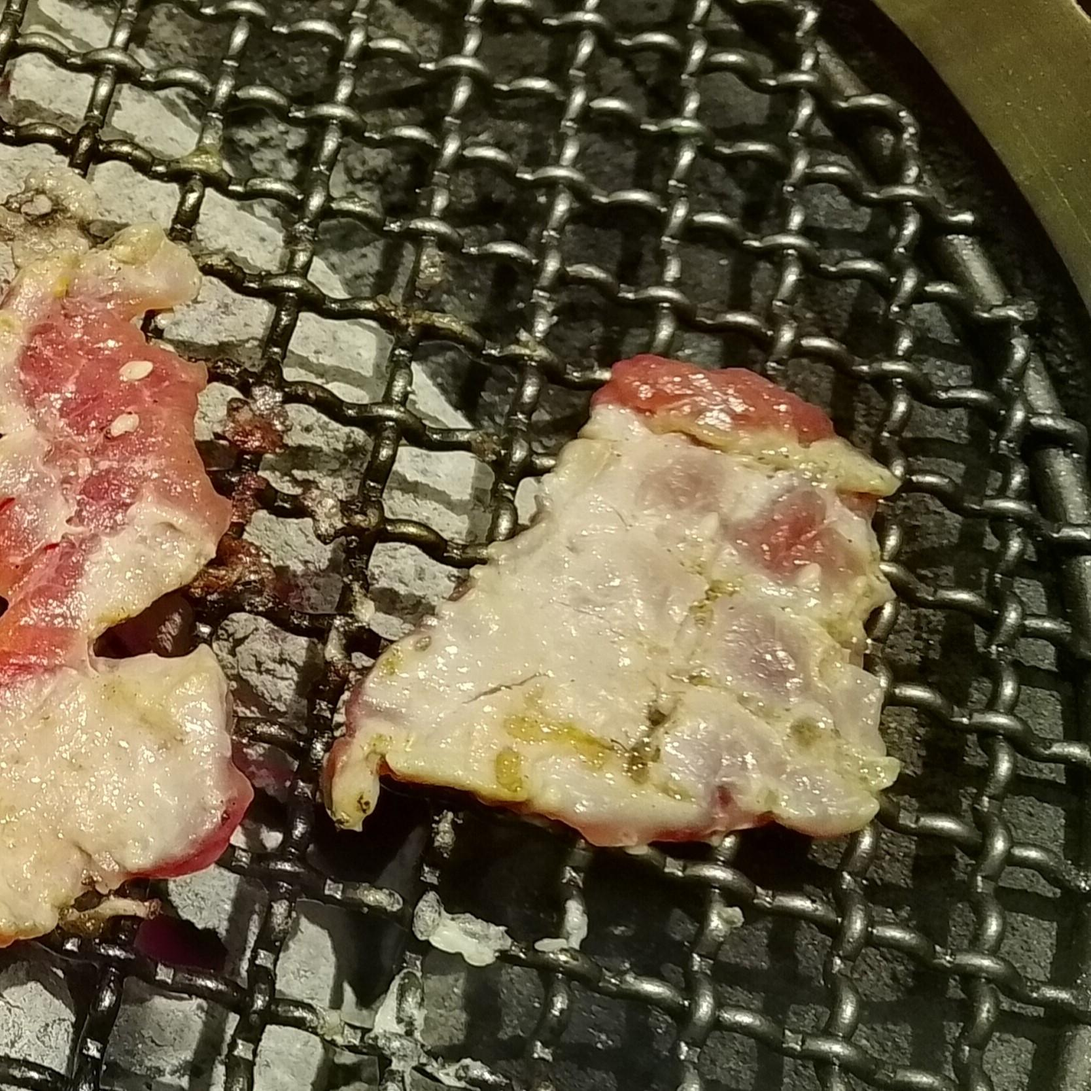Undercooked: (321, 355, 899, 850), (0, 226, 249, 944)
